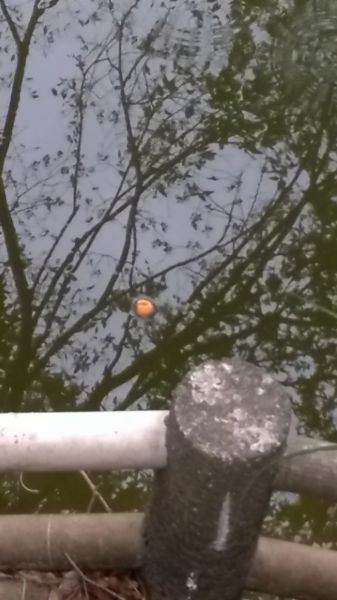eggs: (131, 293, 159, 319)
